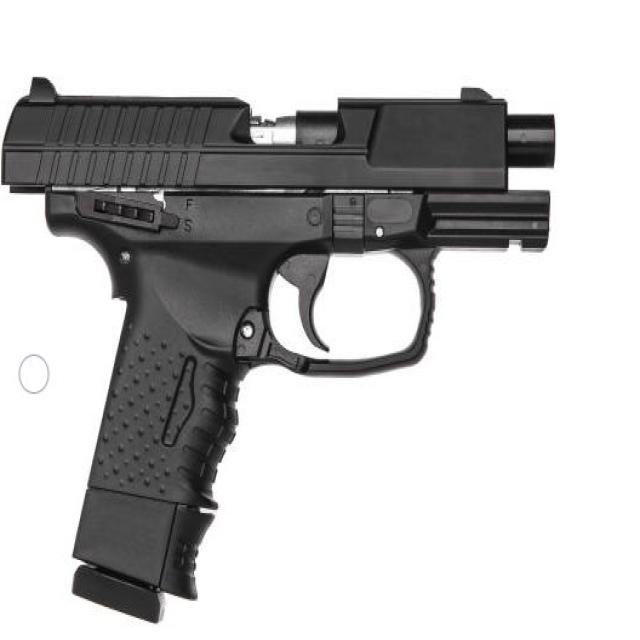pistol: (1, 64, 566, 629)
